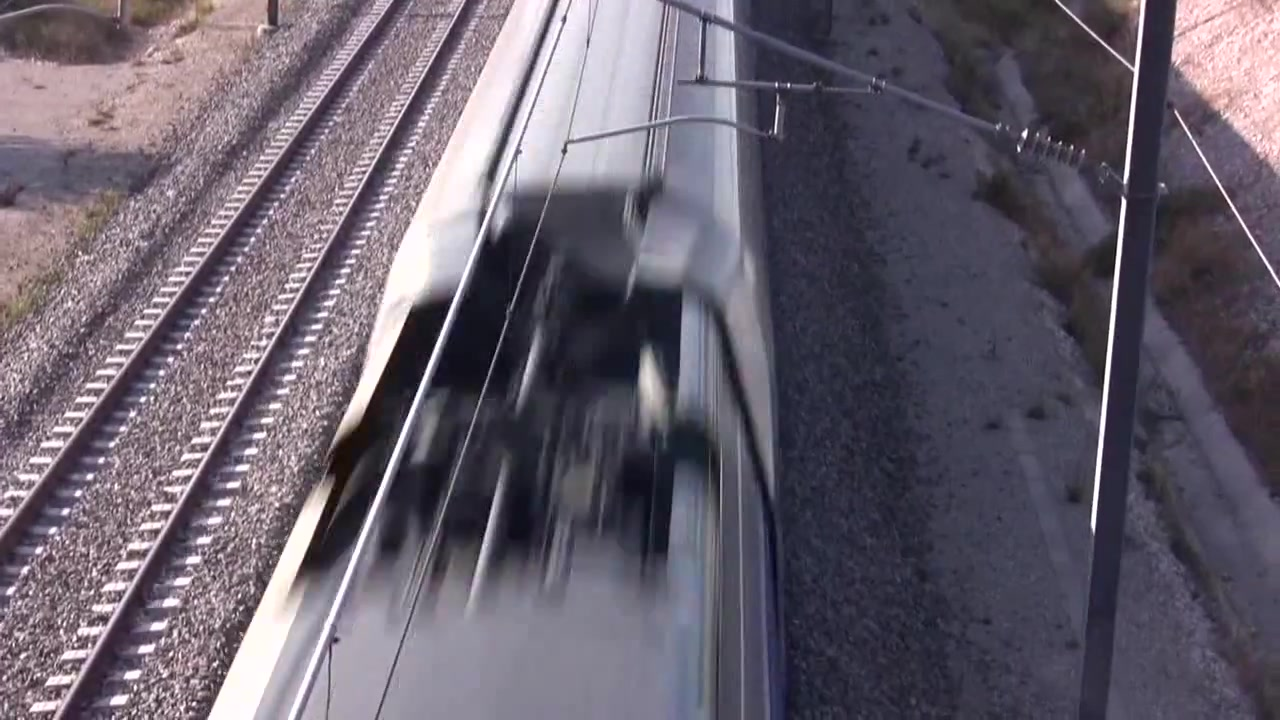train: (201, 1, 794, 720)
